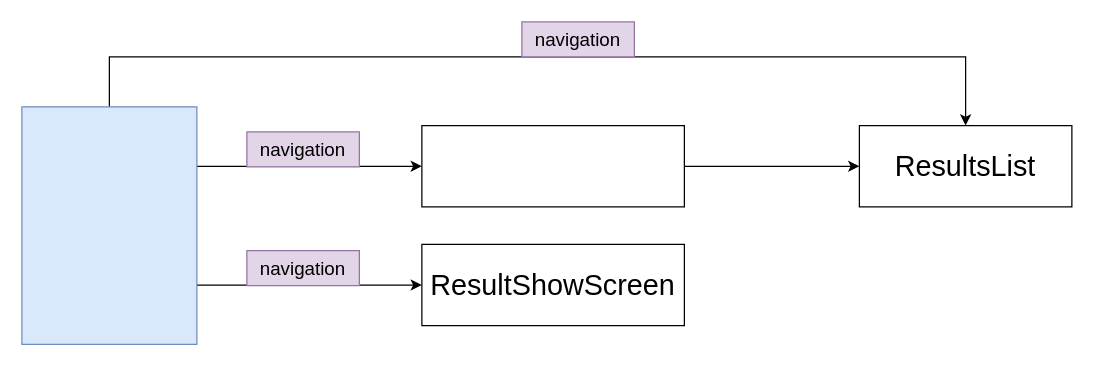
Some shapes in this 1094 by 366 pixel diagram are drawn without their labels. Here are the shapes that lost their labels. From the top down, the centre of each, then its label:
At pixel 552 165: "SearchScreen".
At pixel 109 225: "React Navigation Stack Navigator".
